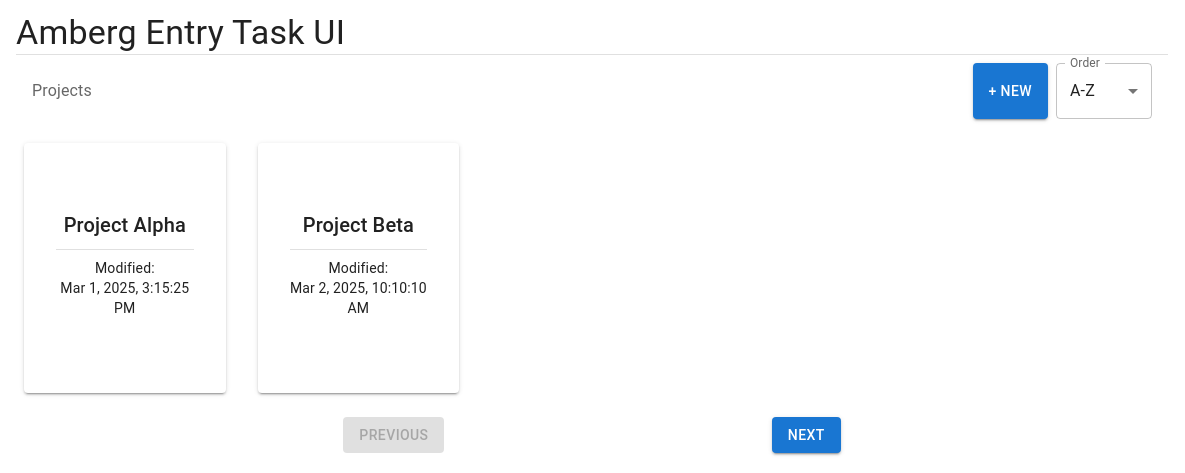
Scenario: ProjectListPage › should show correct projects after clicking next page
Expected: the heading "Project Alpha" is shown, [64,214,186,238]
Expected: the heading "Project Beta" is shown, [303,214,414,238]
Click the button "Next". click: click(806, 435)
box: [772,417,841,454]
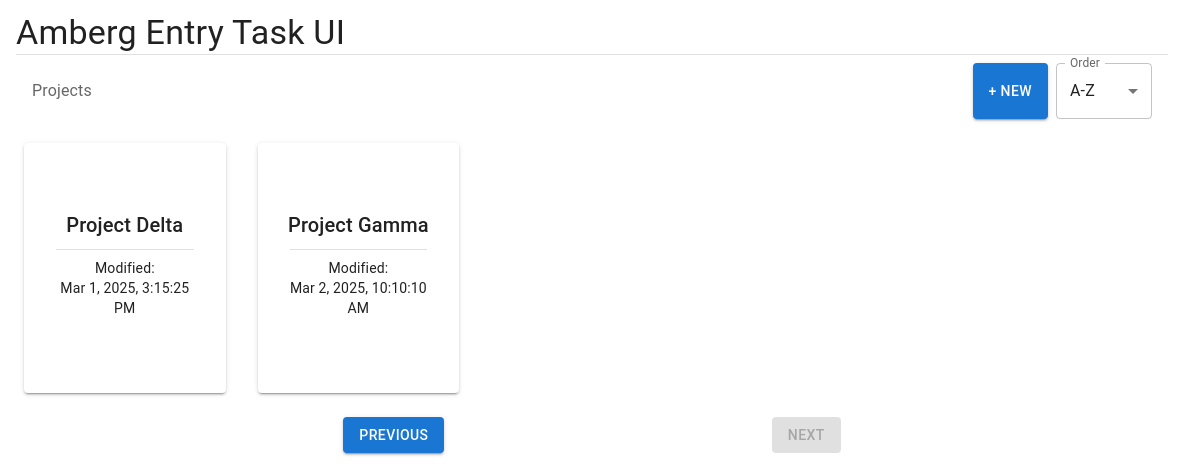
Expected: the heading "Project Delta" is shown, [66,214,183,238]
Expected: the heading "Project Gamma" is shown, [282,210,435,242]
